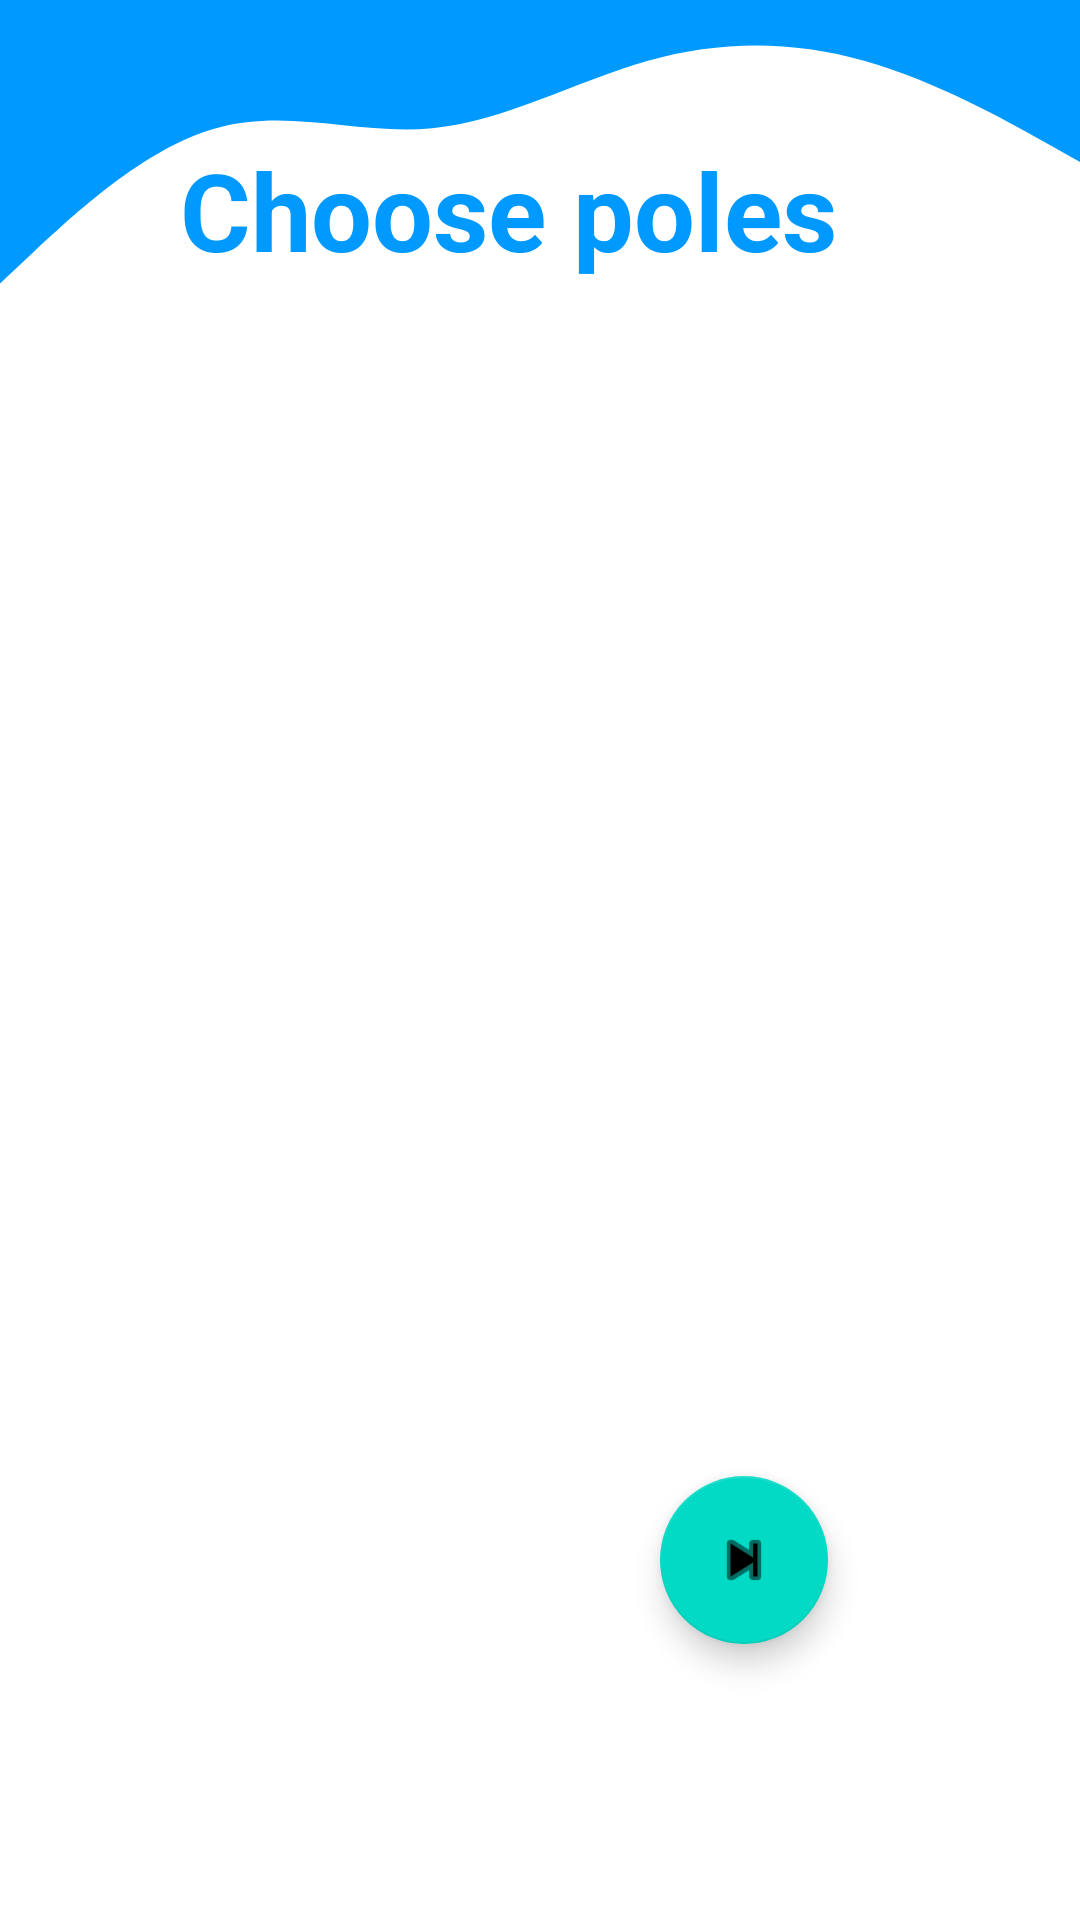

Screen size 1080x1920. Icon name, then its center in pixels as point (x, y):
next: point (744, 1560)
